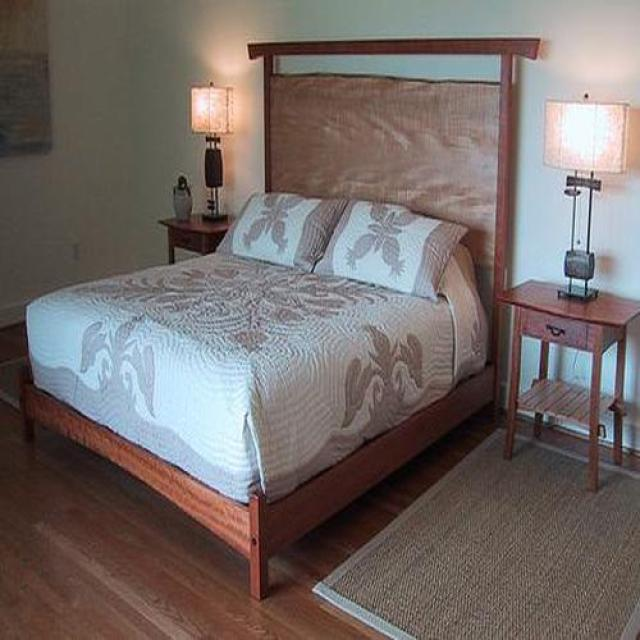bed: (26, 38, 540, 602)
